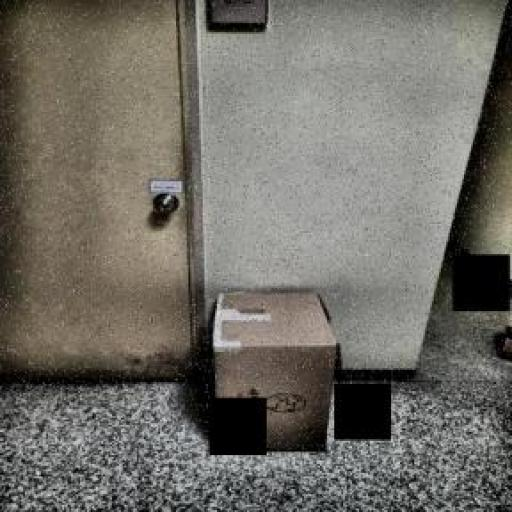box: (199, 276, 350, 458)
